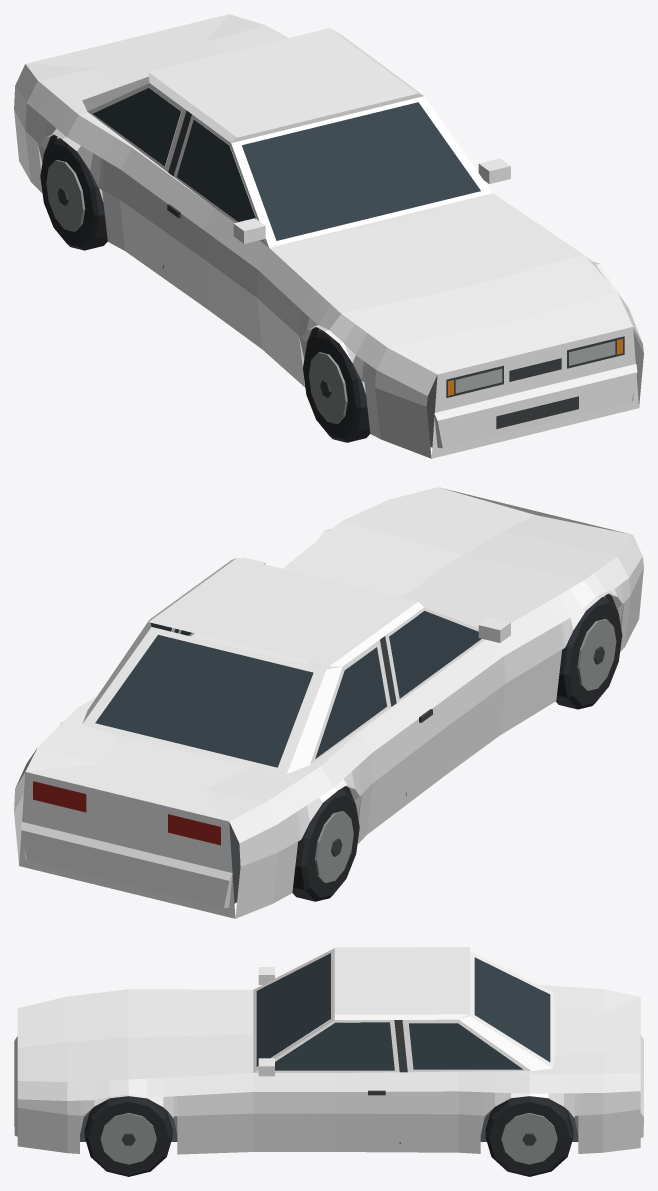
File: thornby_keel.glb
The picture shows the model from 3 angles, top to bottom: view 1: azimuth 30°, elevation 25°; view 2: azimuth 150°, elevation 25°; view 3: azimuth 270°, elevation 25°; orthographic projection. The views are drawn at different scales.
Visible parts, largest first — view 1: thornby_keel; view 2: thornby_keel; view 3: thornby_keel.
Boxes of the visible parts, left/top/right/bottom form: thornby_keel: left=14, top=14, right=643, bottom=458; thornby_keel: left=14, top=487, right=643, bottom=918; thornby_keel: left=14, top=947, right=643, bottom=1176.
Size of the model in its own units: 1.8 by 1.21 by 4.65.
8 materials, 1 textured.
